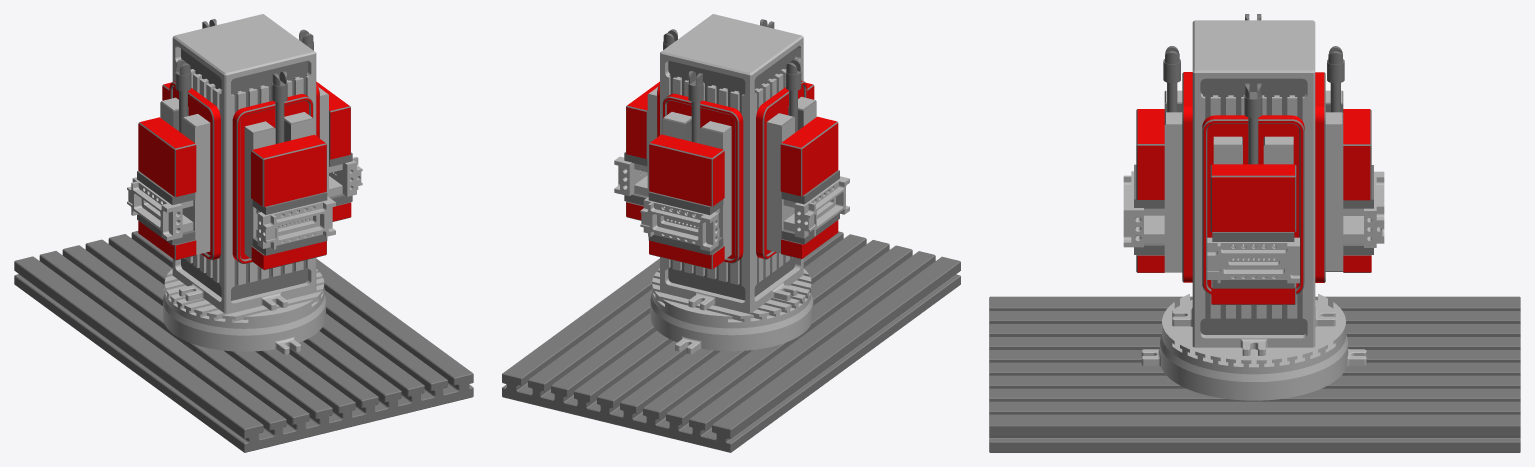
Rendered from millasm_2.glb.
The picture shows the model from 3 angles, left to right: view 1: azimuth 30°, elevation 25°; view 2: azimuth 150°, elevation 25°; view 3: azimuth 270°, elevation 25°; orthographic projection. The views are drawn at different scales.
Parts seen in each view (by area): view 1: table-1, tombstone-1, vise-3, vise-2, rotary table-1, vise-5, mill2ax_10-2, mill2ax_10-1, mill2ax_10-4; view 2: table-1, tombstone-1, vise-4, vise-2, rotary table-1, vise-5, mill2ax_10-3, mill2ax_10-1, mill2ax_10-4; view 3: table-1, tombstone-1, vise-5, rotary table-1, vise-3, vise-4, mill2ax_10-4, mill2ax_10-3, mill2ax_10-2.
Boxes of the visible parts, left/top/right/bottom form: table-1: left=14, top=231, right=473, bottom=452; tombstone-1: left=172, top=14, right=316, bottom=313; vise-3: left=232, top=71, right=327, bottom=270; vise-2: left=137, top=59, right=220, bottom=260; rotary table-1: left=163, top=269, right=325, bottom=354; vise-5: left=299, top=29, right=352, bottom=221; mill2ax_10-2: left=257, top=196, right=335, bottom=249; mill2ax_10-1: left=127, top=177, right=182, bottom=240; mill2ax_10-4: left=329, top=157, right=362, bottom=196; table-1: left=502, top=231, right=960, bottom=452; tombstone-1: left=660, top=14, right=803, bottom=312; vise-4: left=648, top=71, right=743, bottom=269; vise-2: left=756, top=59, right=839, bottom=259; rotary table-1: left=650, top=268, right=813, bottom=354; vise-5: left=624, top=29, right=677, bottom=220; mill2ax_10-3: left=640, top=197, right=718, bottom=251; mill2ax_10-1: left=794, top=176, right=849, bottom=238; mill2ax_10-4: left=614, top=156, right=647, bottom=196; table-1: left=989, top=296, right=1520, bottom=452; tombstone-1: left=1172, top=20, right=1335, bottom=355; vise-5: left=1202, top=83, right=1304, bottom=304; rotary table-1: left=1141, top=294, right=1366, bottom=400; vise-3: left=1134, top=46, right=1192, bottom=282; vise-4: left=1315, top=46, right=1373, bottom=282; mill2ax_10-4: left=1207, top=237, right=1299, bottom=283; mill2ax_10-3: left=1364, top=171, right=1384, bottom=247; mill2ax_10-2: left=1123, top=171, right=1143, bottom=247.
Bounding box in the file's own units: 0.7604 × 0.9414 × 1.32.
